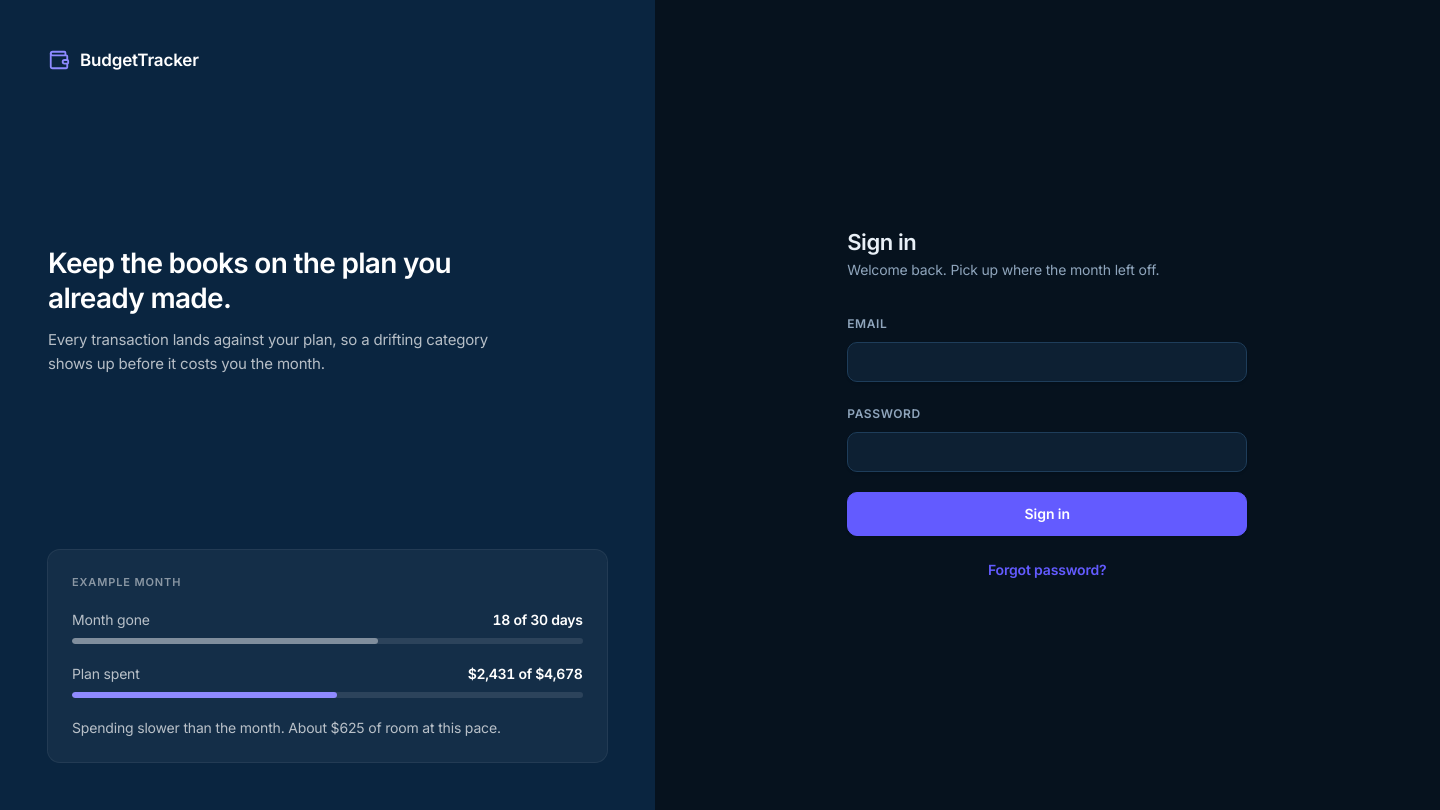
LoginPage › rejects a code that is not 6 digits without calling Cognito
This screenshot has width=1440, height=810.
Step 1. Type "me@example.com" into the field labelled "Email" → (1047, 362), box top-left (847, 342), bottom-right (1247, 382)
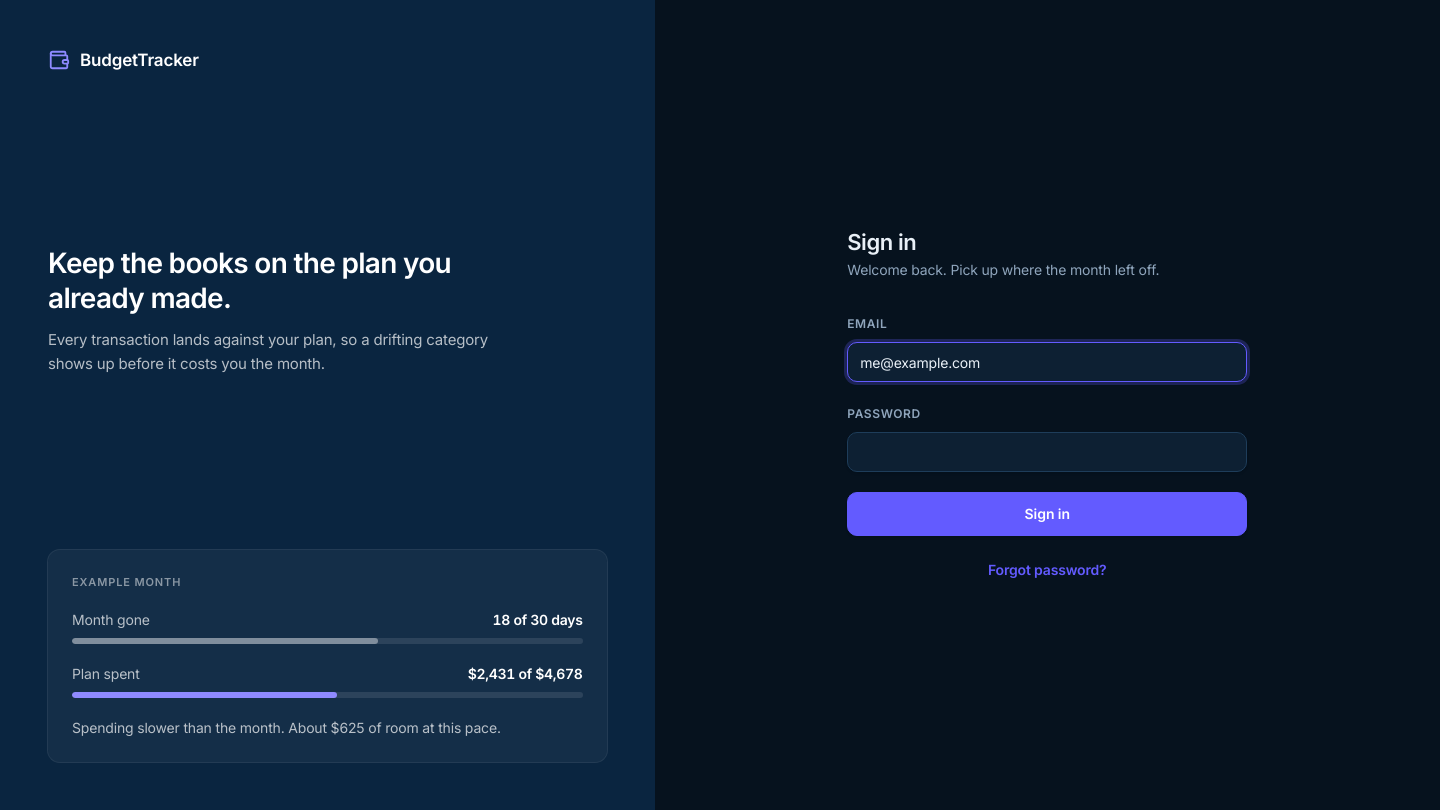
Step 2. Type "hunter22" into the password field labelled "Password" → (1047, 452), box top-left (847, 432), bottom-right (1247, 472)
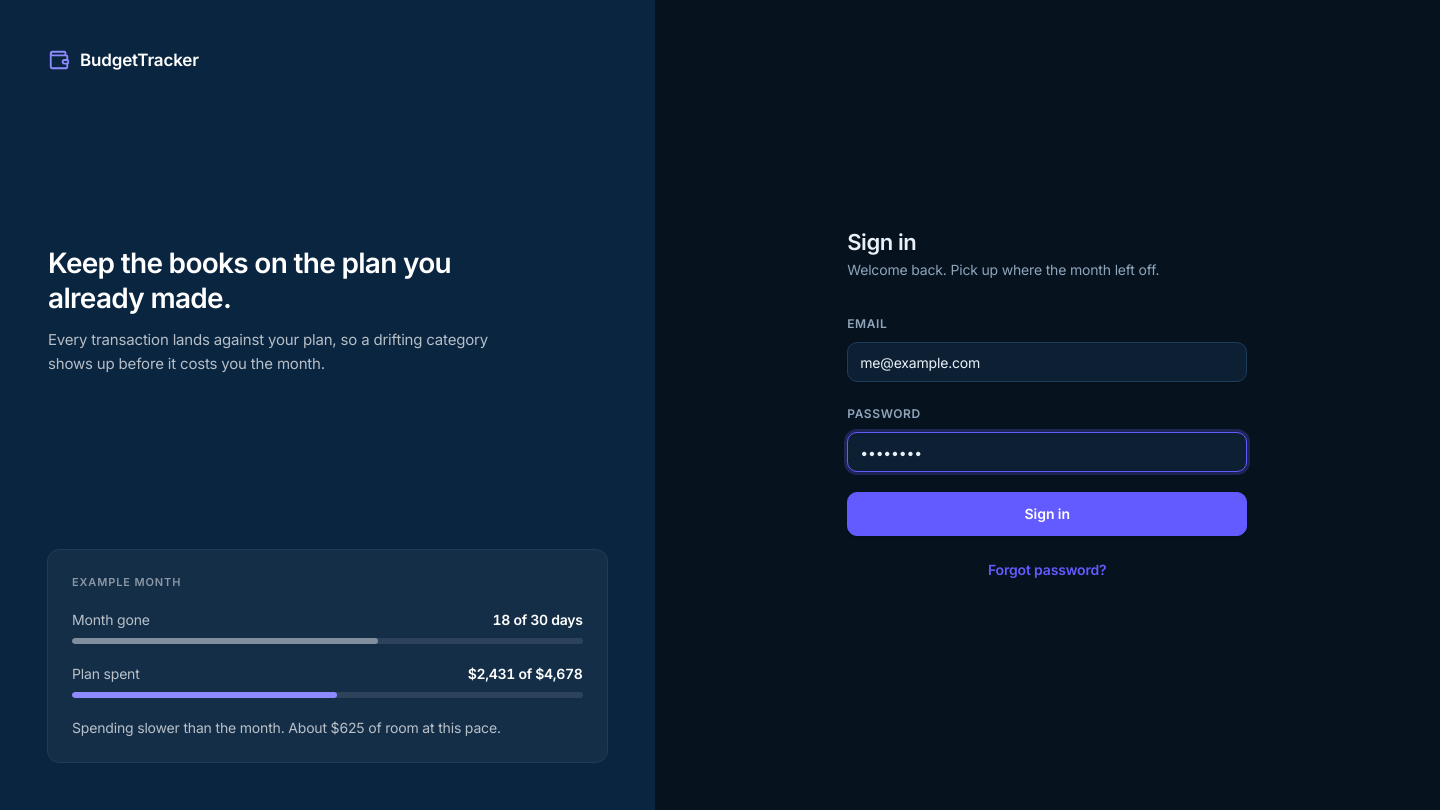
Step 3. Click the button "Sign in" → (1047, 514), box top-left (847, 492), bottom-right (1247, 536)
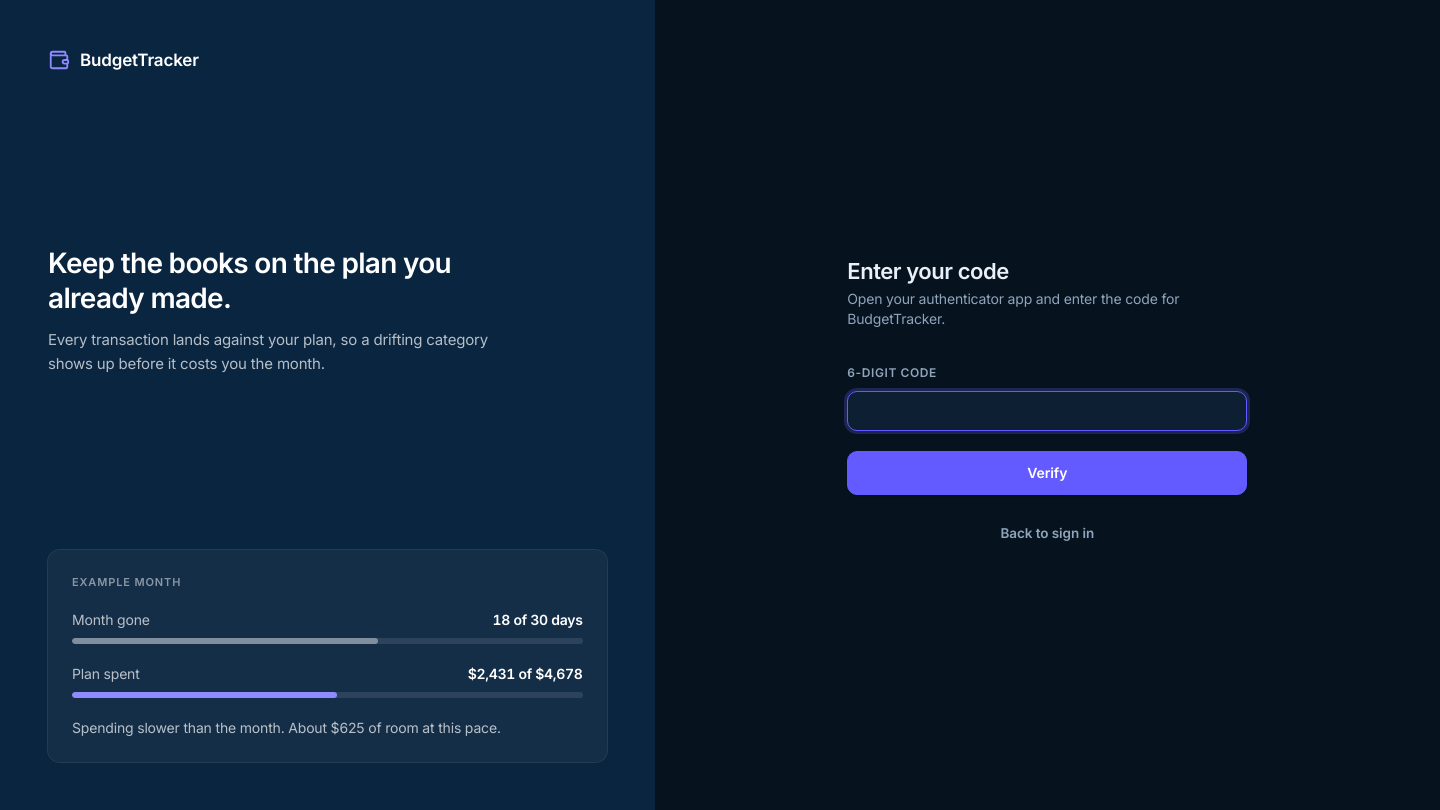
Step 4. Type "12ab" into the field labelled "6-digit code" → (1047, 411), box top-left (847, 391), bottom-right (1247, 431)
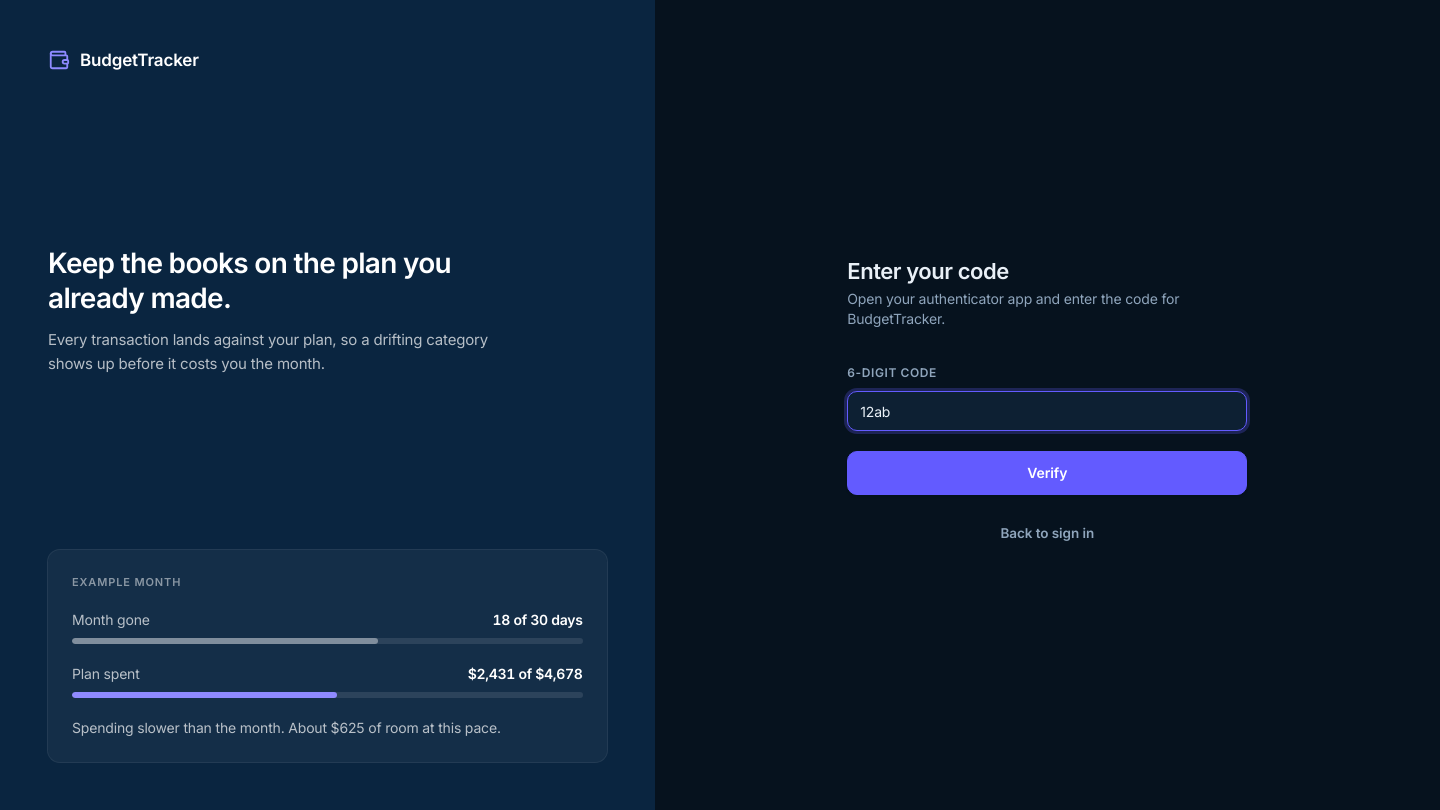
Step 5. Click the button "Verify" → (1047, 473), box top-left (847, 451), bottom-right (1247, 495)
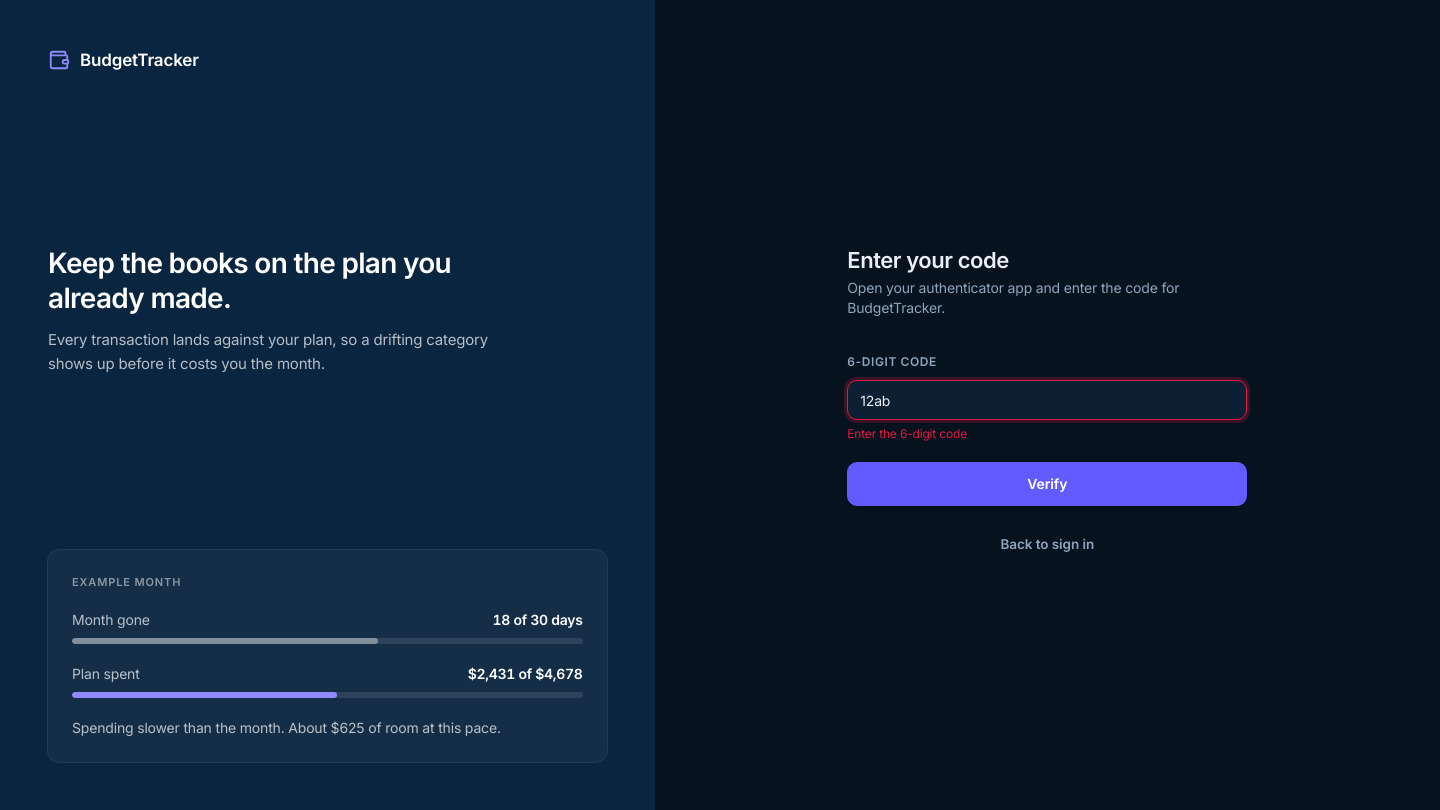
Expected: the text "Enter the 6-digit code" is shown, top-left (847, 426), bottom-right (967, 441)
